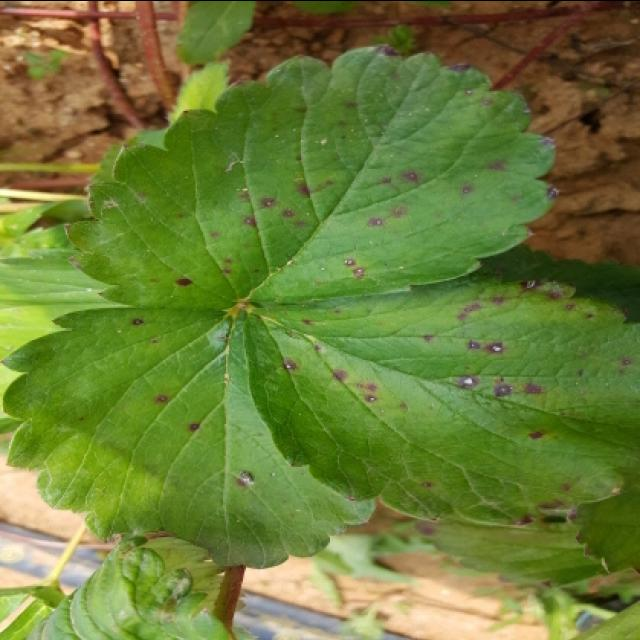Leaf Spot: (61, 40, 559, 310), (238, 267, 638, 526), (0, 306, 380, 570)
